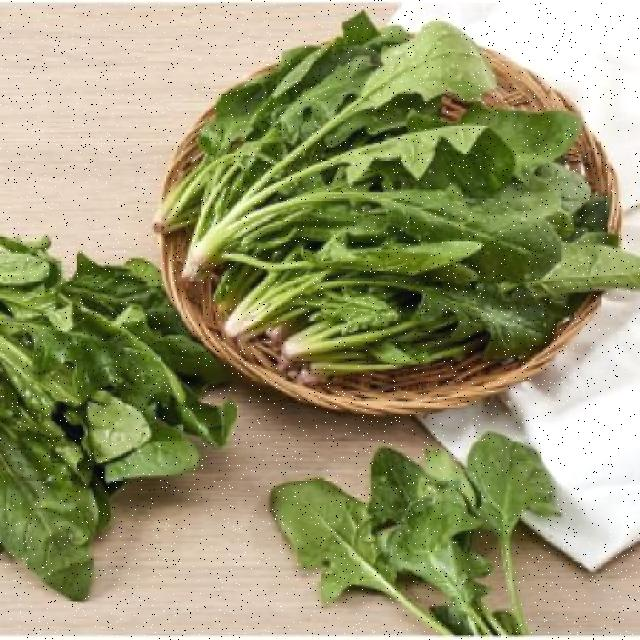Spinach: (155, 29, 620, 380), (218, 447, 570, 640)
